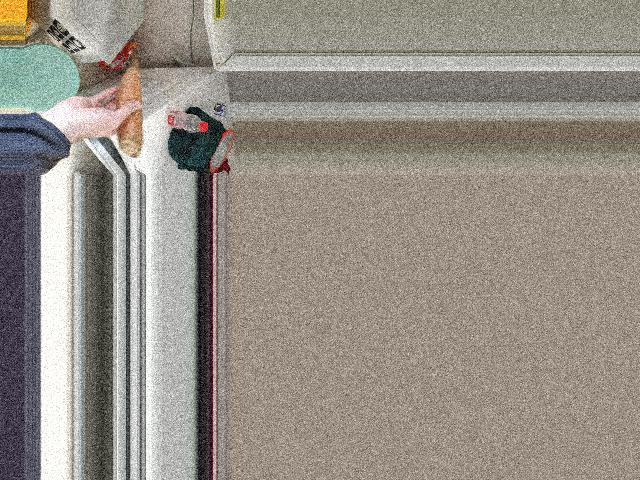sweet_potato: (116, 63, 141, 148)
